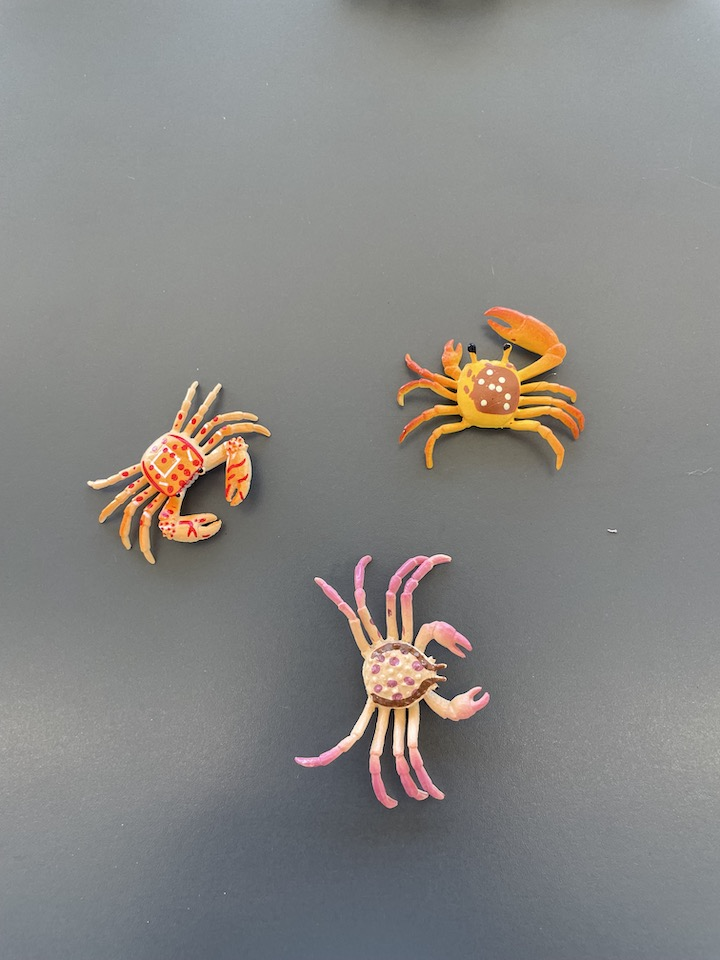crab: (283, 550, 496, 813), (82, 374, 276, 573), (389, 304, 589, 478)
